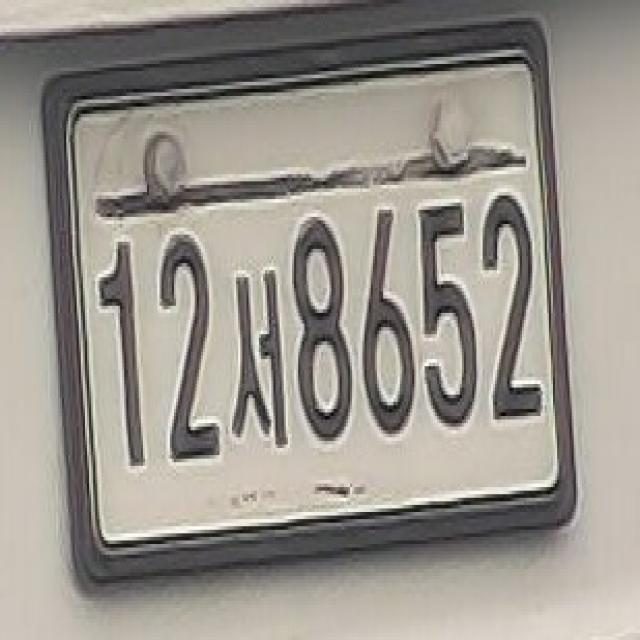1: (94, 228, 156, 477)
2: (478, 181, 553, 434), (158, 228, 220, 477)
5: (418, 188, 476, 438)
6: (356, 192, 421, 444)
8: (292, 199, 354, 448)
license_plate: (39, 11, 572, 597)
seo: (228, 249, 288, 462)
